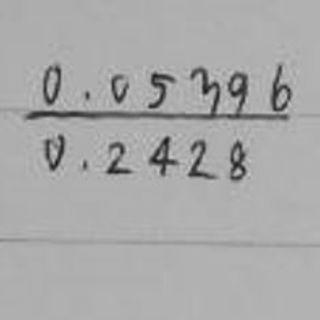.: (80, 87, 96, 103), (78, 156, 92, 173)
0: (40, 63, 62, 107), (109, 73, 131, 105)
2: (186, 138, 218, 180), (105, 141, 135, 176)
3: (188, 66, 221, 114)
4: (146, 135, 180, 178)
5: (146, 69, 178, 110)
6: (268, 64, 293, 114)
8: (228, 138, 248, 181)
9: (225, 69, 249, 114)
